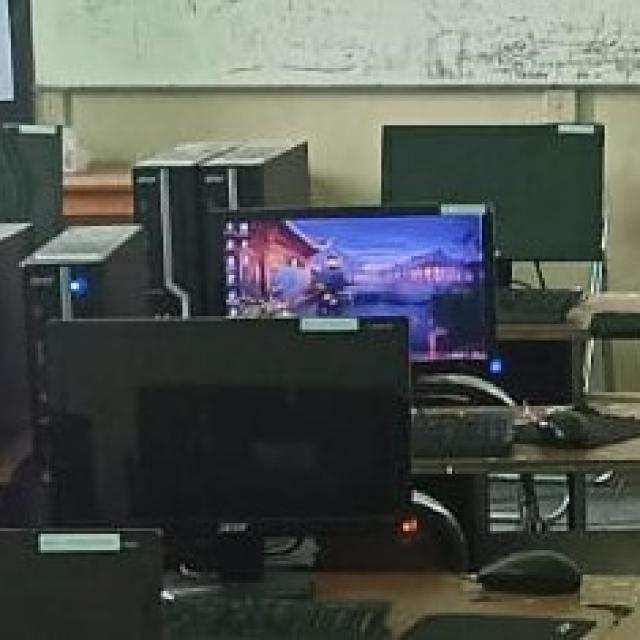offscreen: (47, 319, 412, 532), (383, 129, 605, 259)
onscreen: (216, 210, 495, 371)
